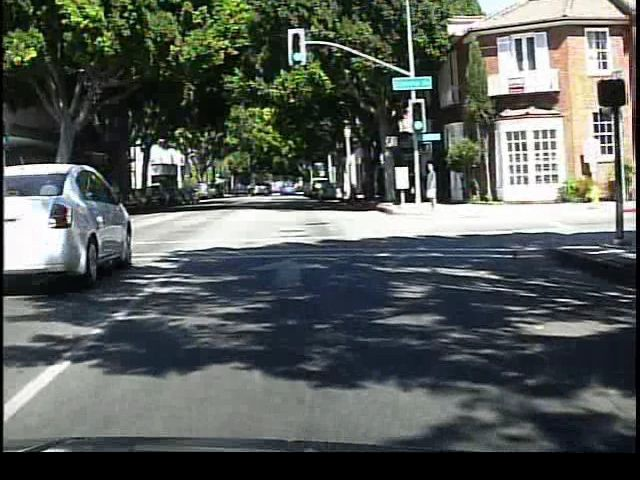person: (422, 158, 443, 215)
